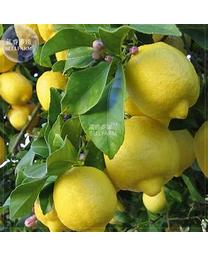lemon: (105, 117, 182, 196), (125, 44, 200, 119), (53, 166, 119, 232), (2, 72, 33, 107)
